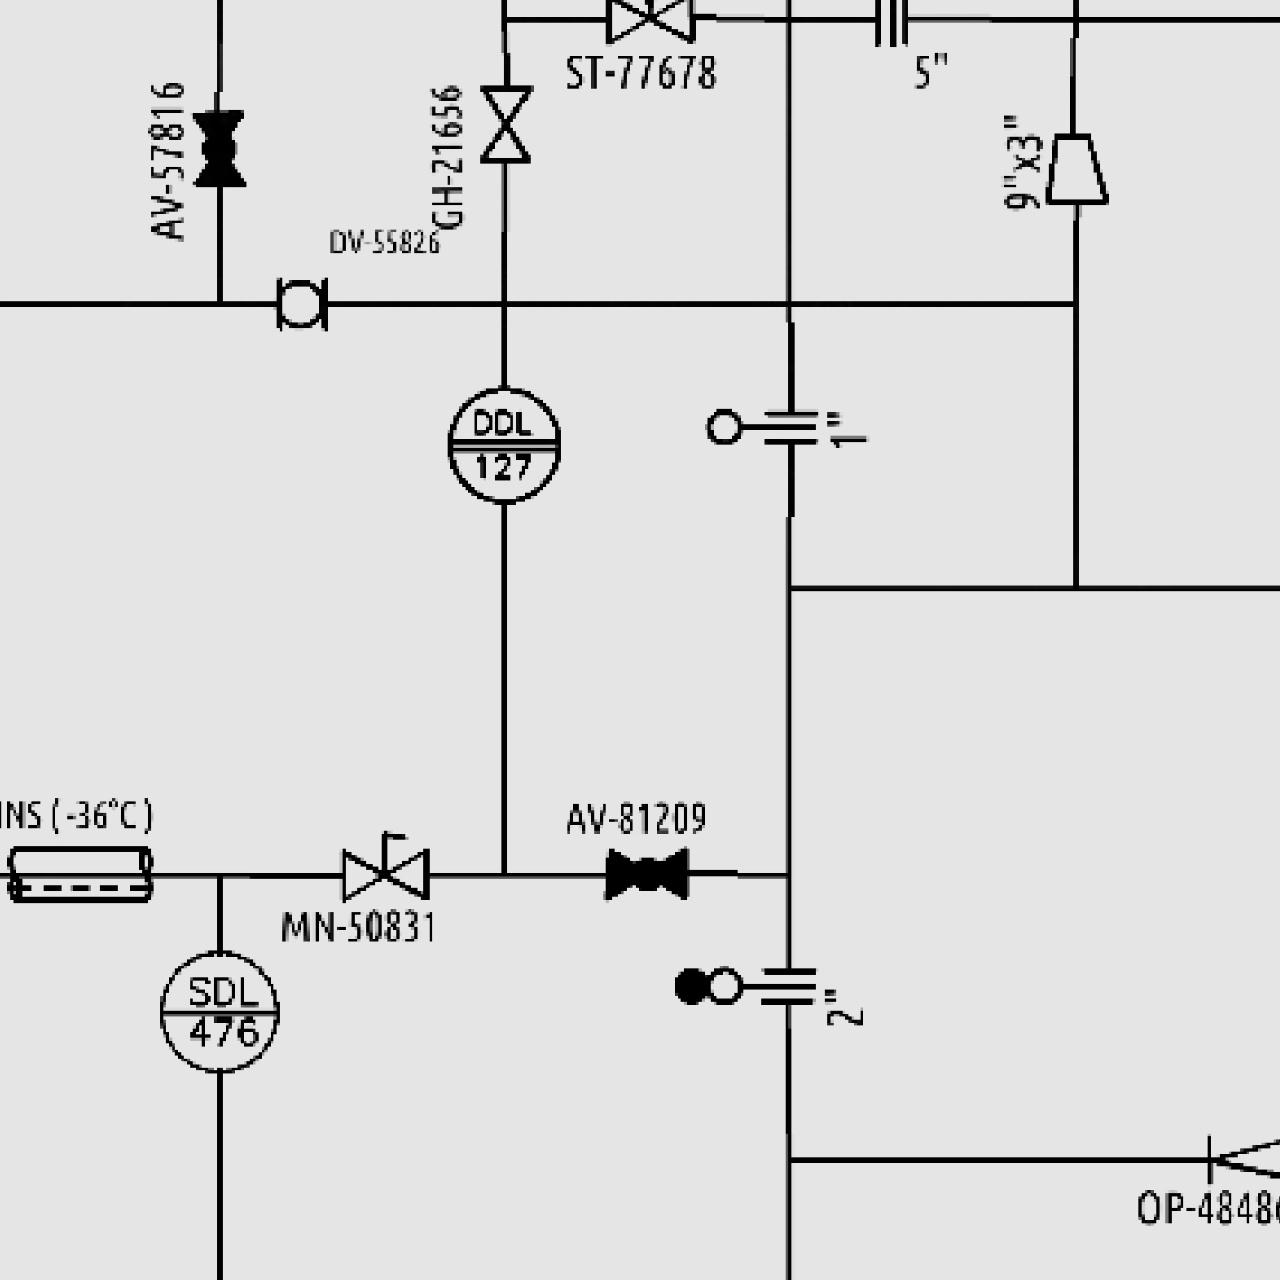Control-Panel: (441, 381, 566, 508)
